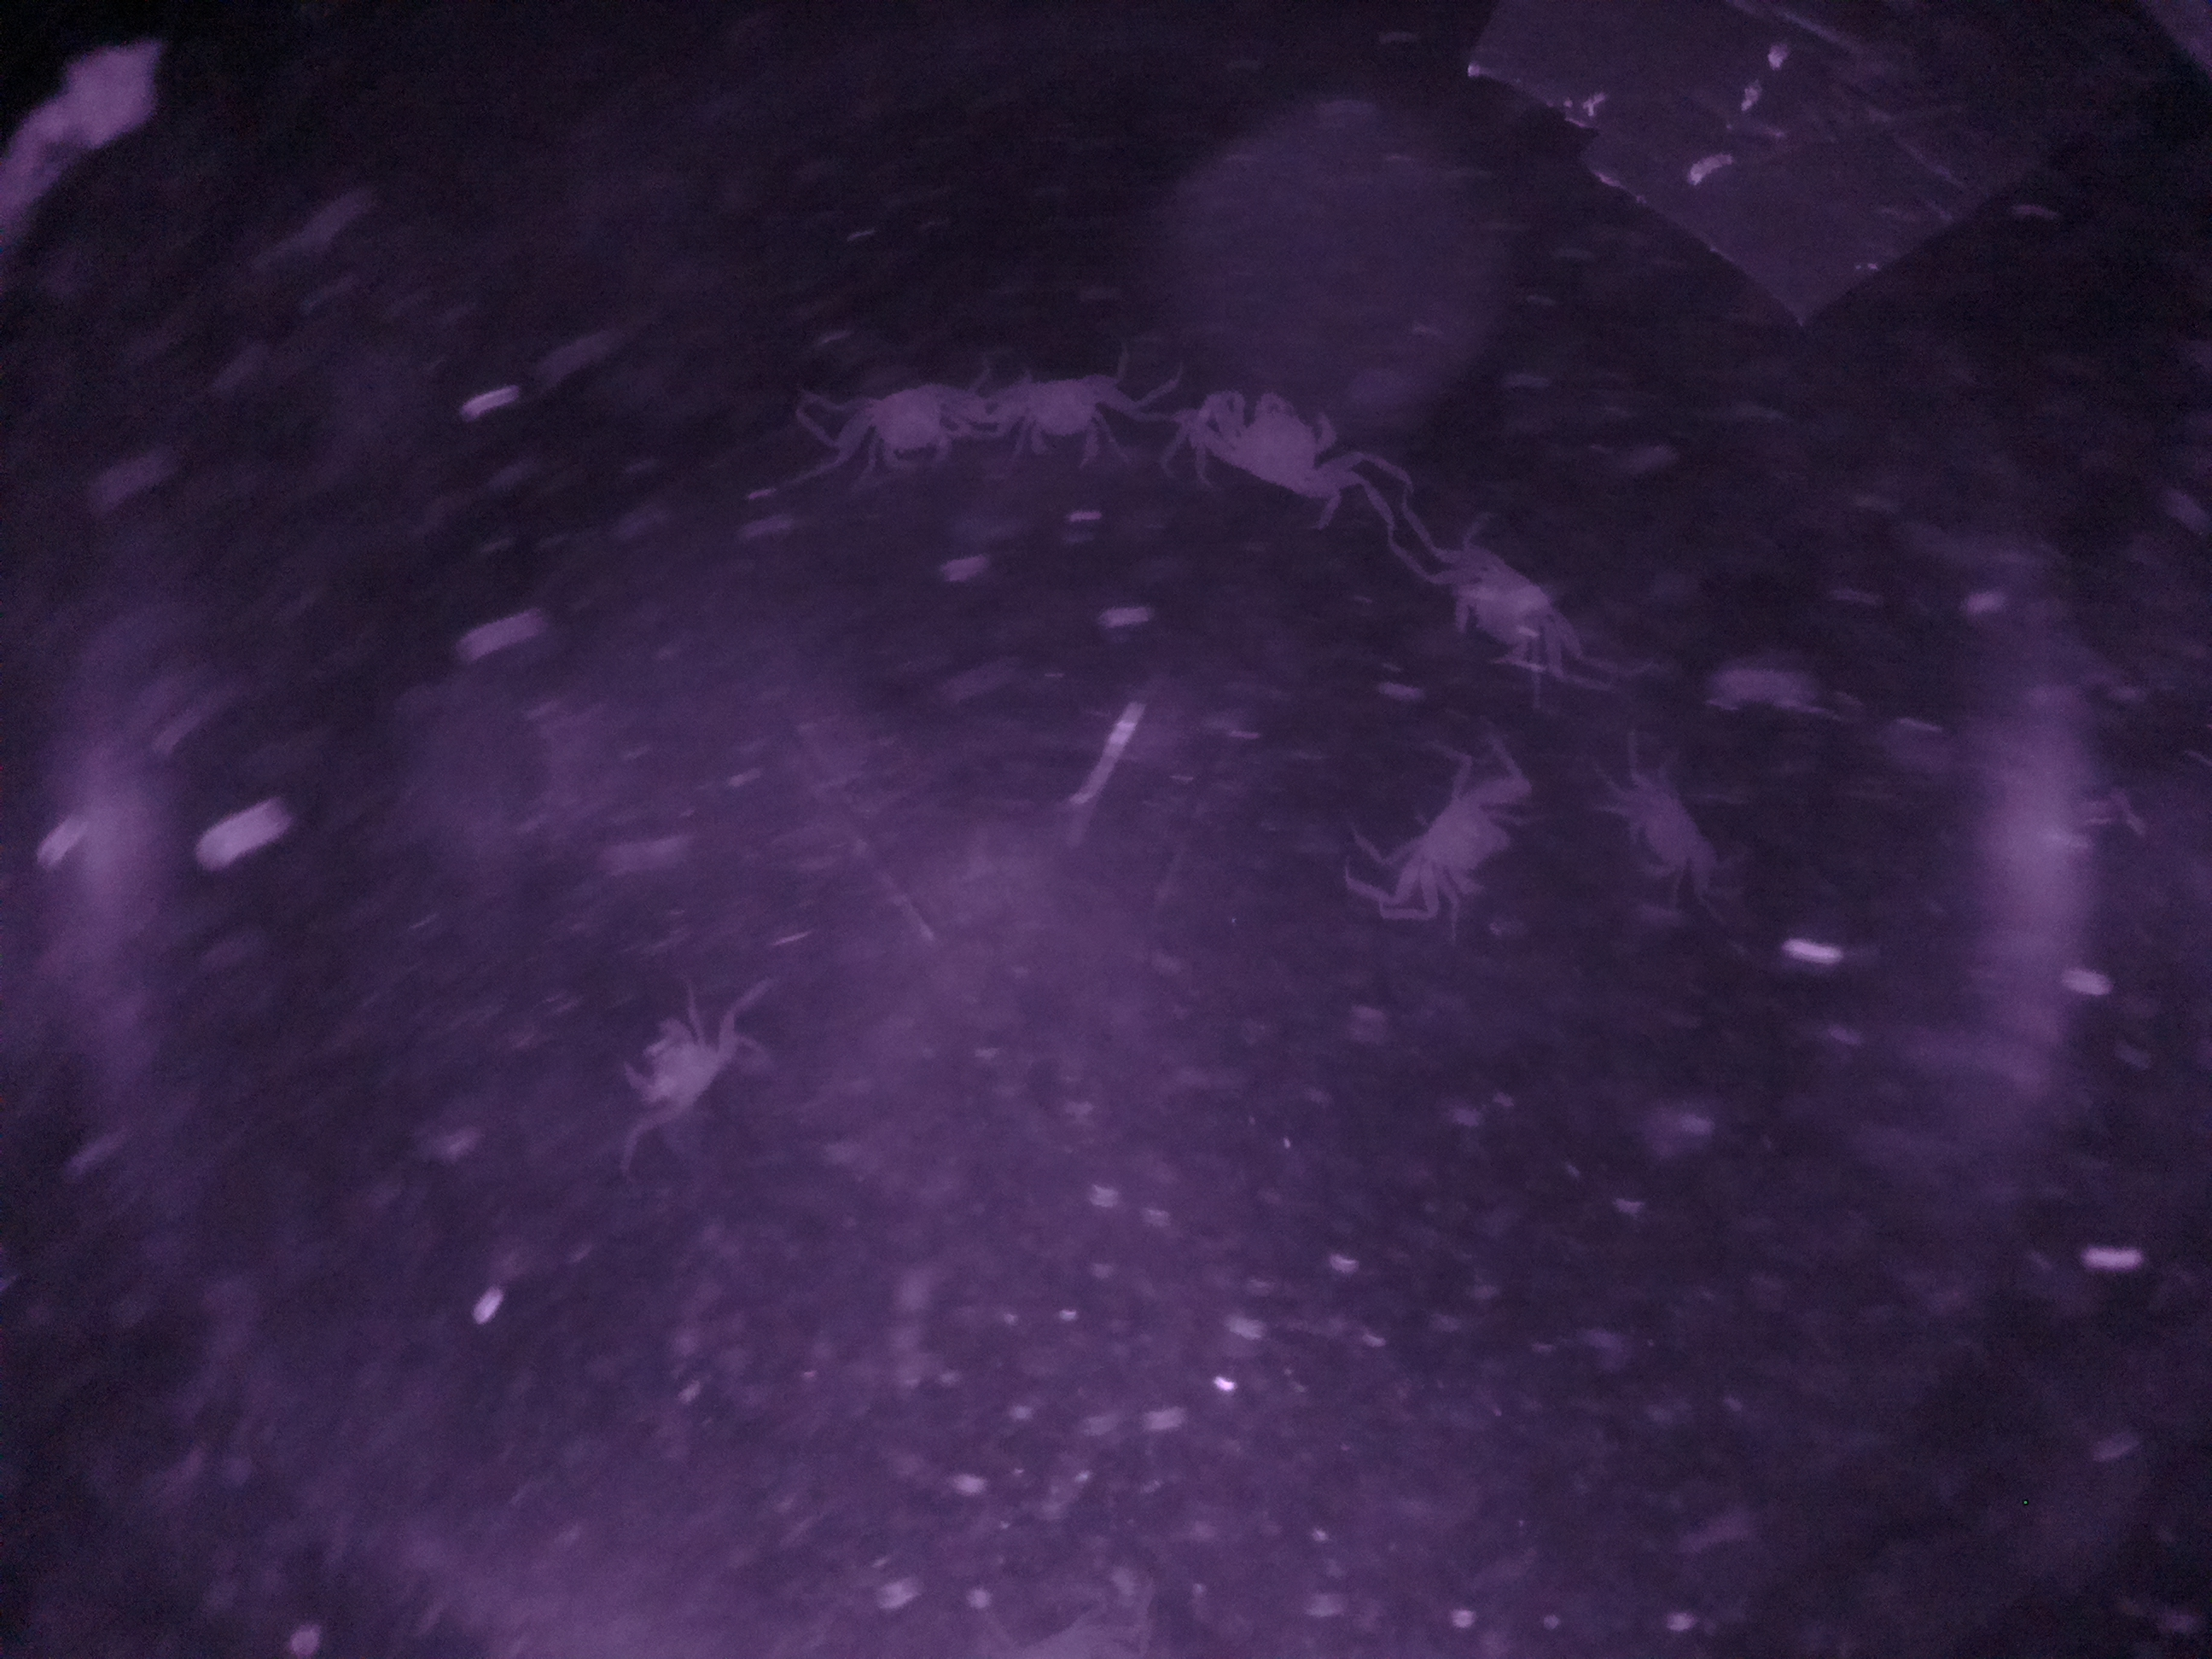Crab: (1158, 371, 1423, 537), (1366, 742, 1554, 938)
